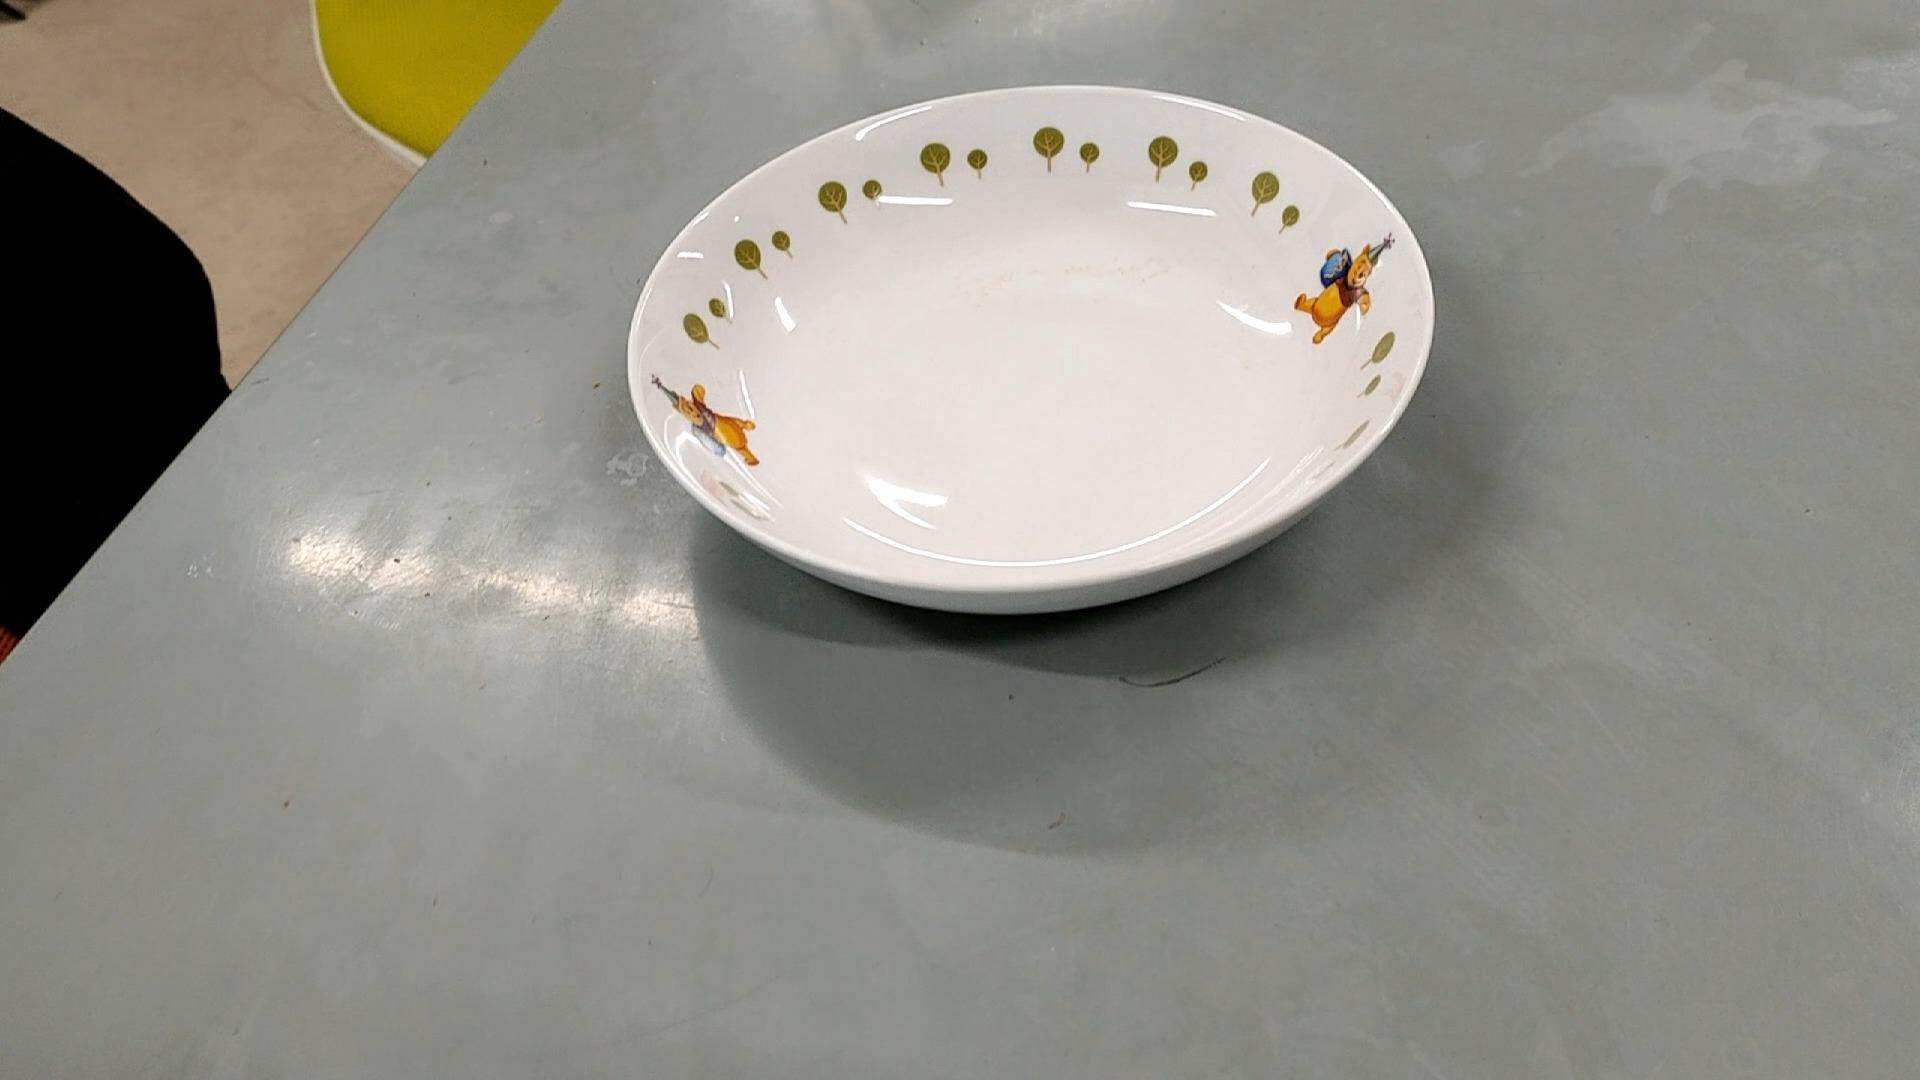plate: (625, 80, 1439, 617)
